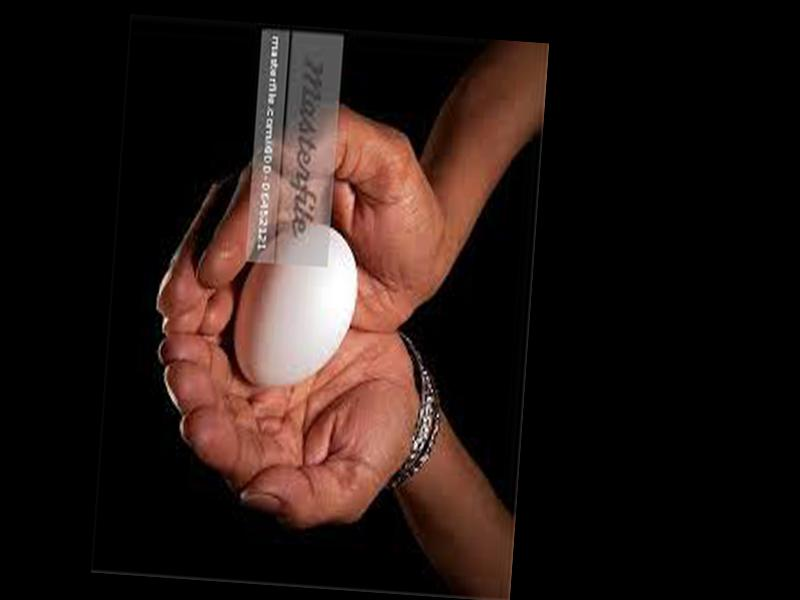Eggs: (229, 219, 361, 394)
